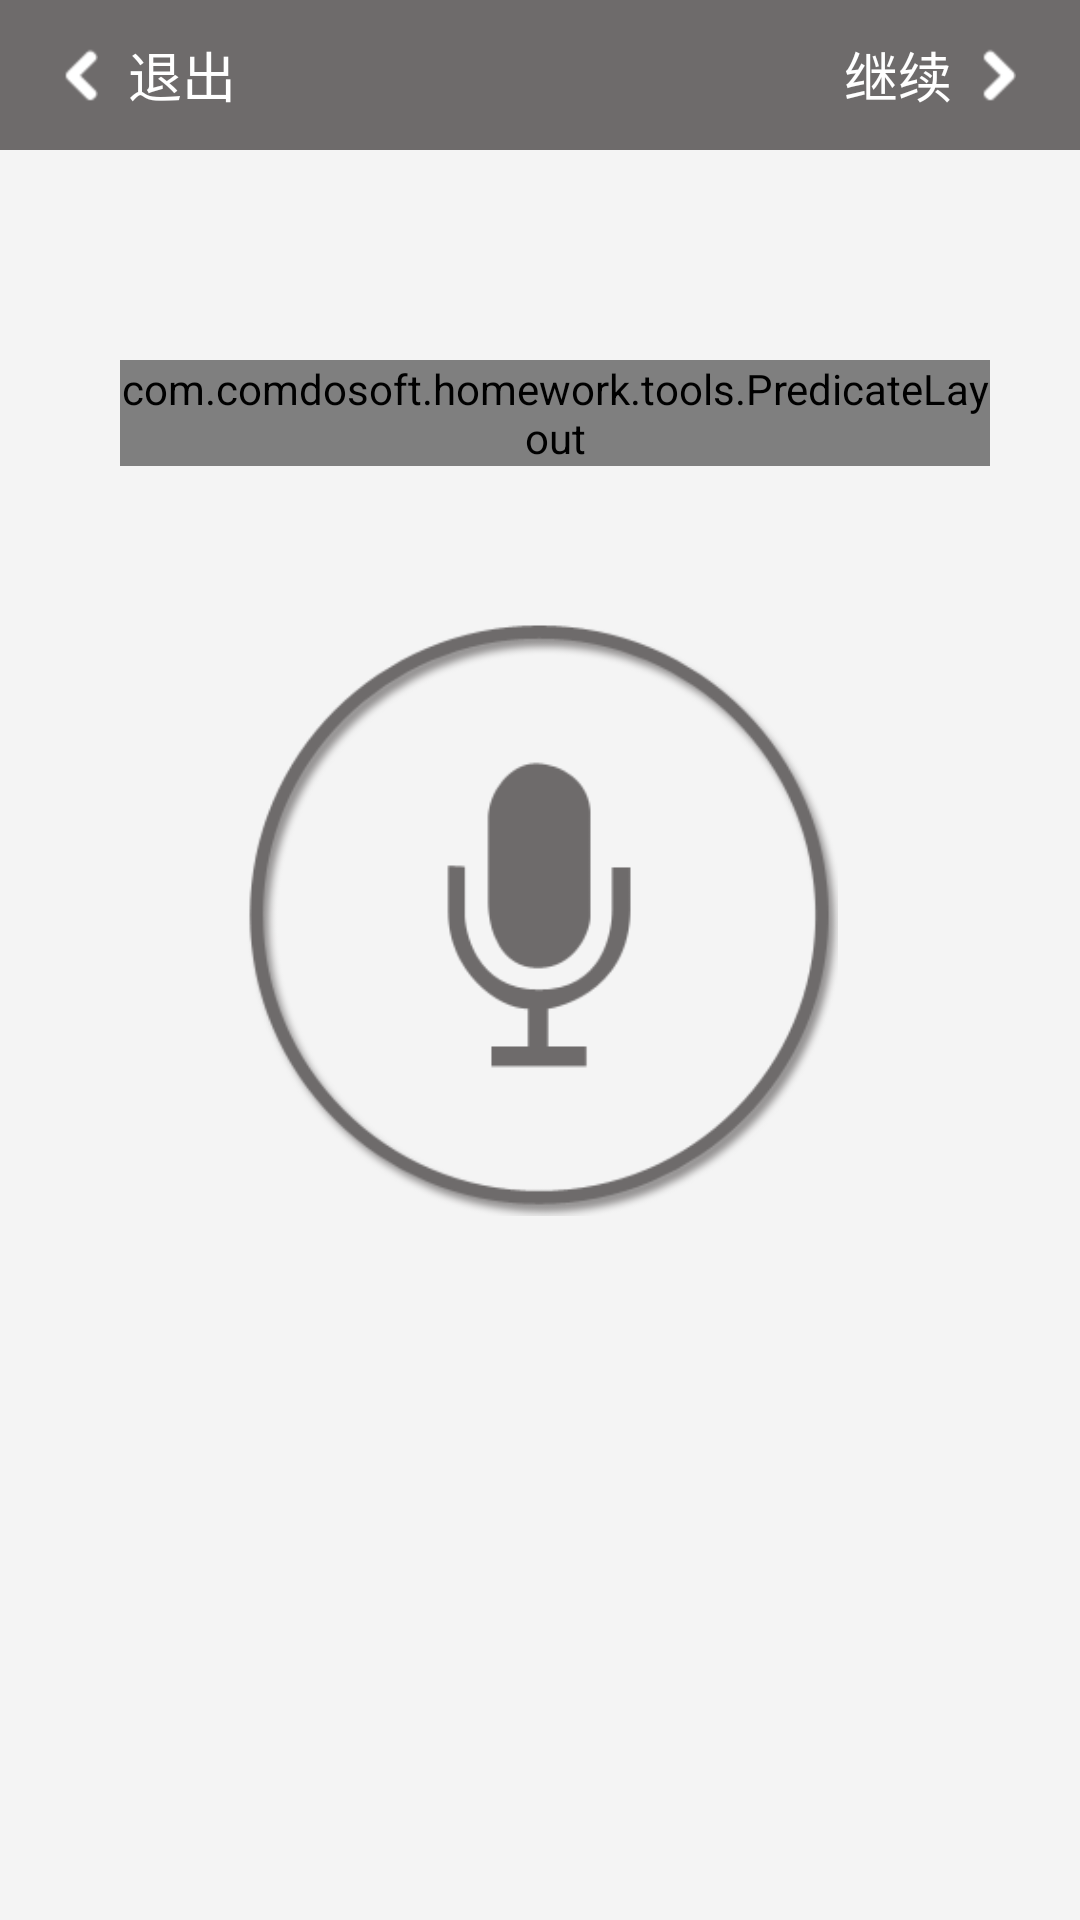

Screen size 1080×1920. Icon name, then its box in pixels as (x1=x1, y1=y1, x2=x2, y2=y2):
left: (x1=65, y1=50, x2=98, y2=101)
right: (x1=983, y1=50, x2=1016, y2=101)
